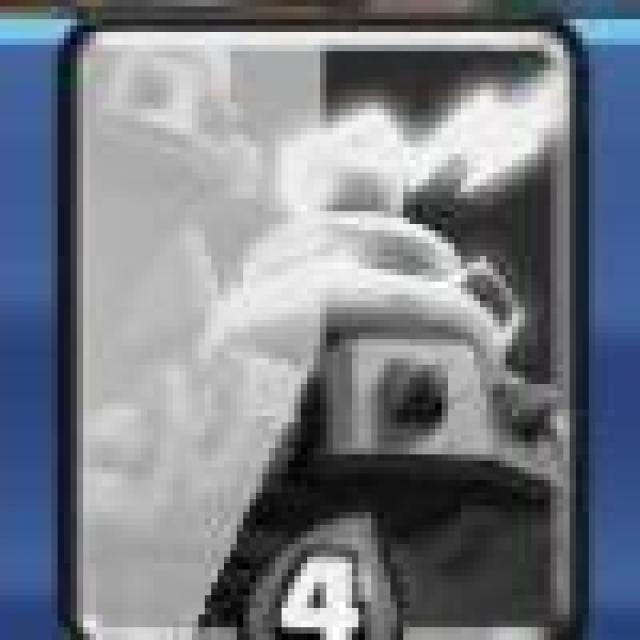Zappies: (69, 27, 582, 640)
